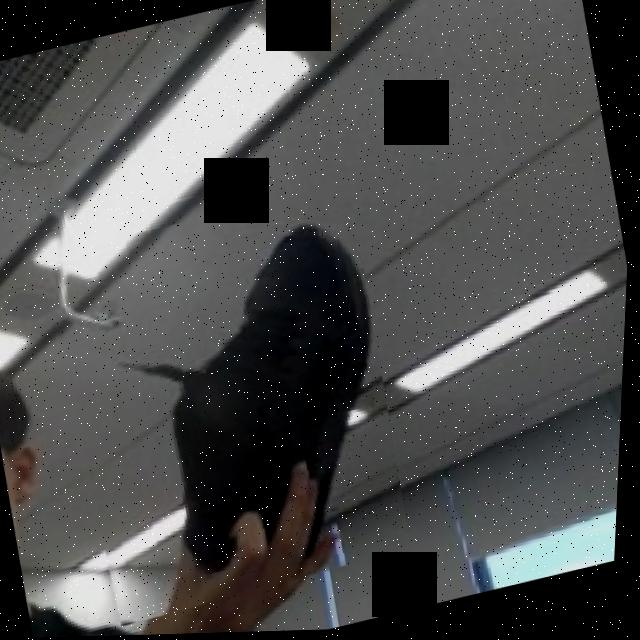shoe: (30, 182, 430, 633)
